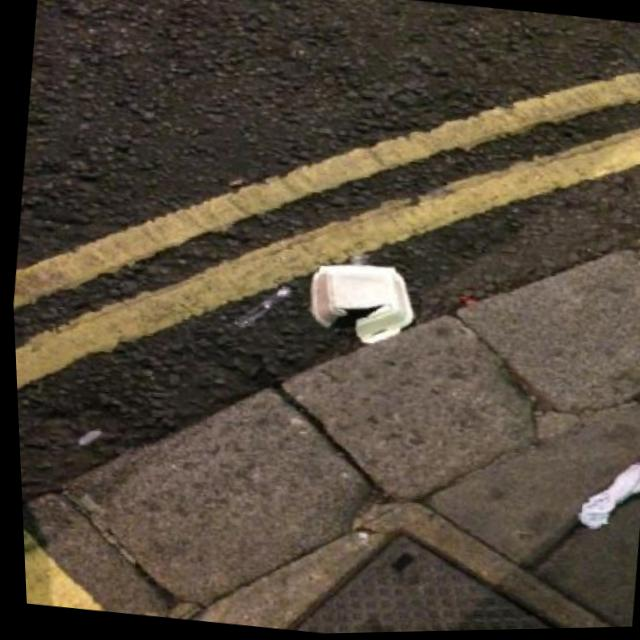foam: (301, 254, 421, 350)
paper: (572, 452, 640, 541)
